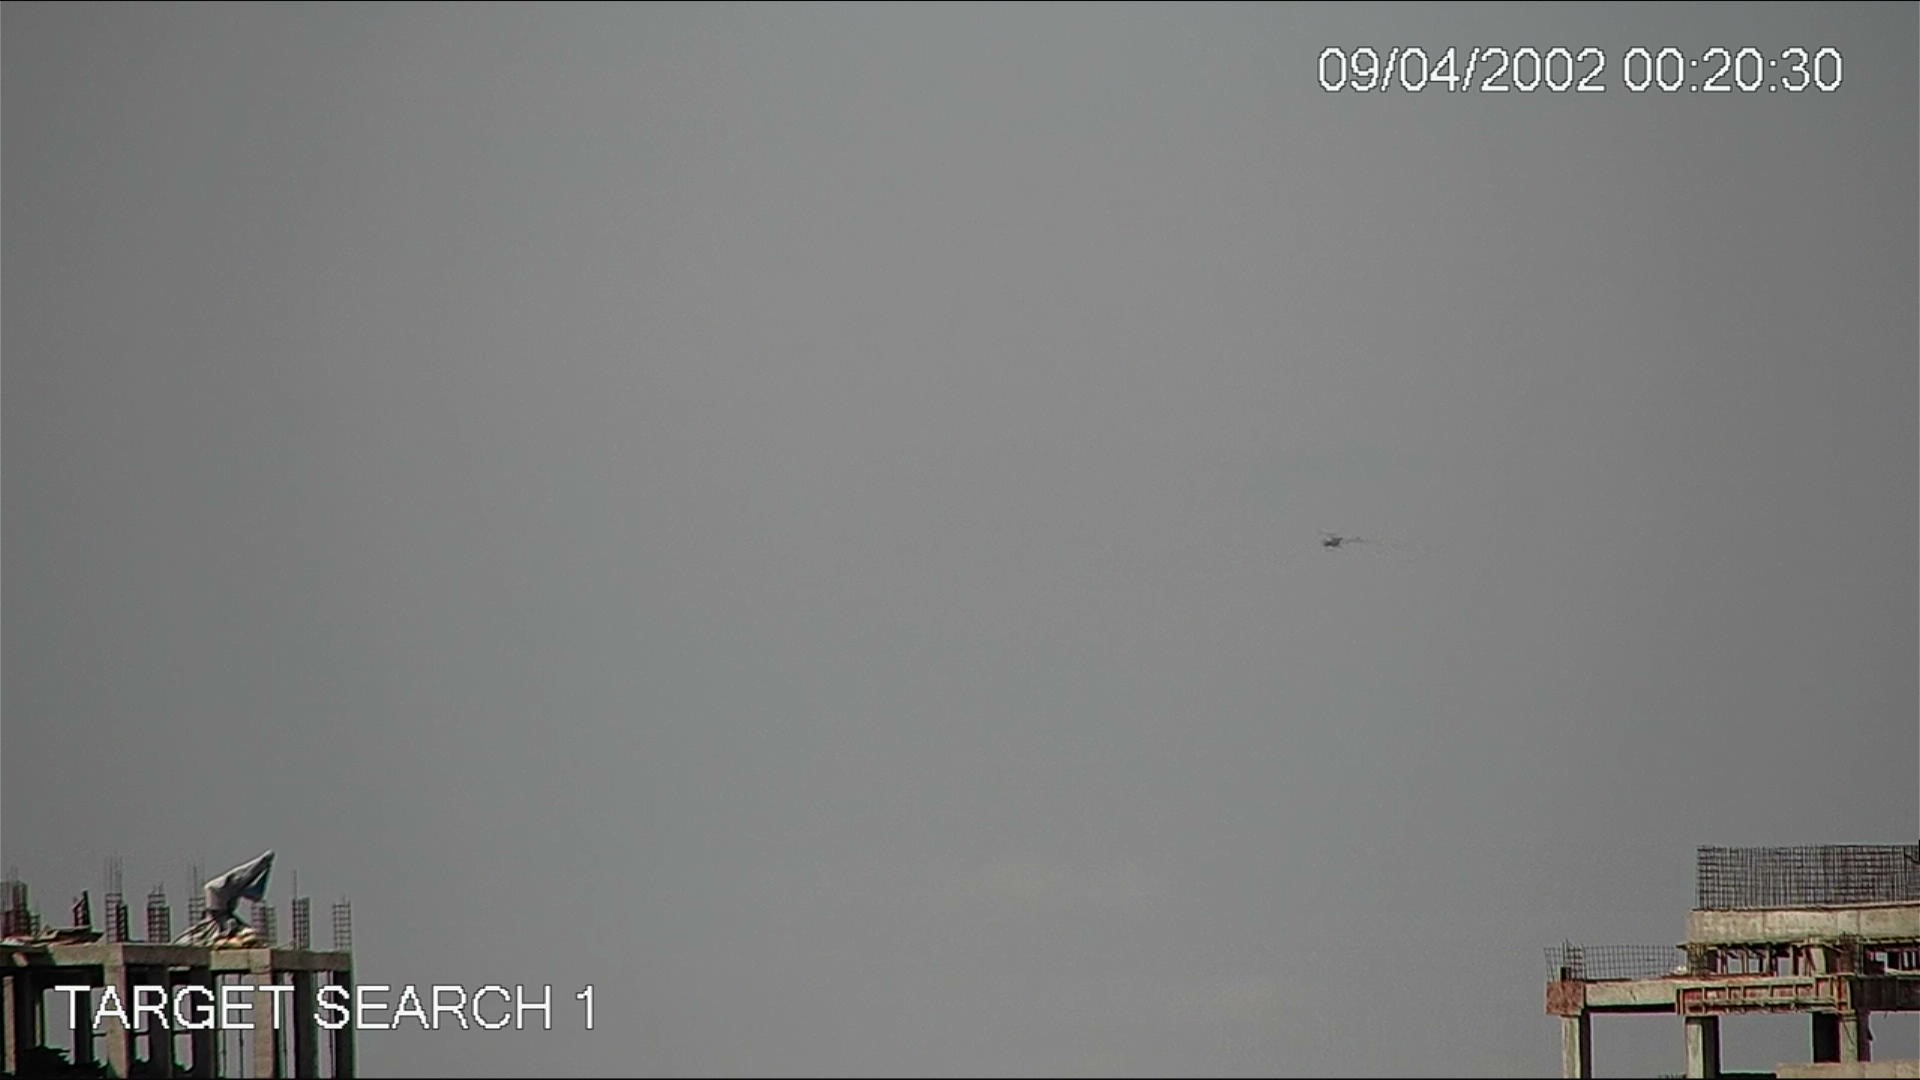SU_30: (1319, 533, 1346, 550)
